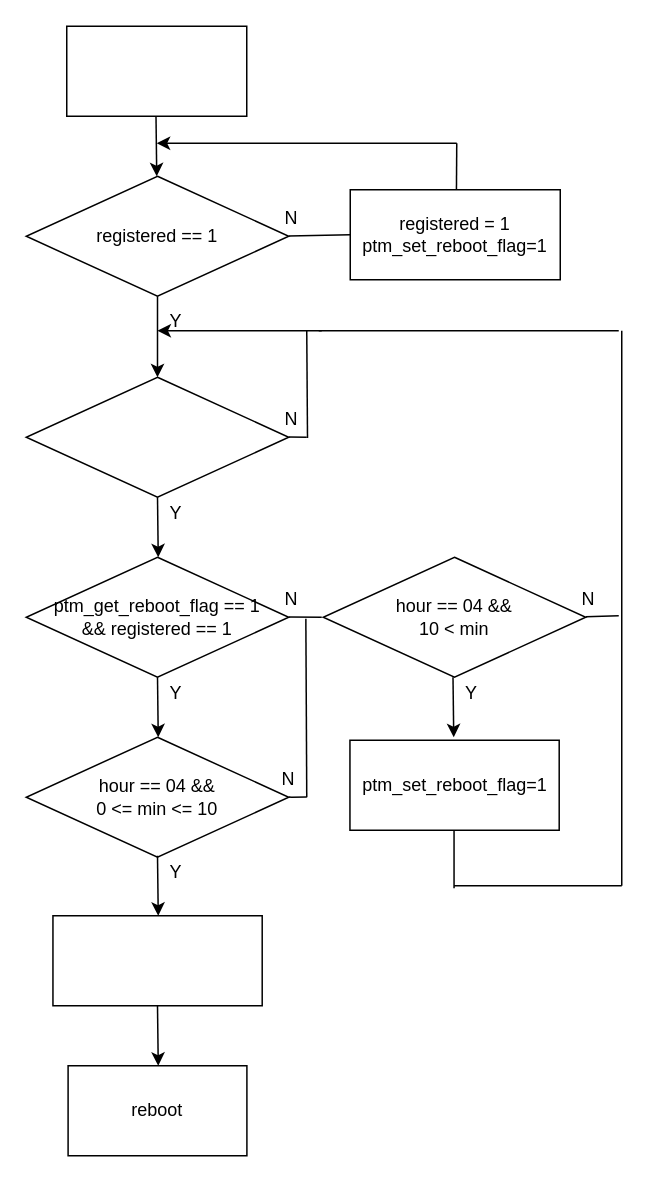
The diagram is 660 pixels wide and 1182 high, and some of its shapes have lost their labels. Each missing label, with the centre of its shape:
ptm_set_reboot_flag=0: the point at 156,960
RX. TLV == 681 or 683: the point at 157,436
Start: the point at 156,70
